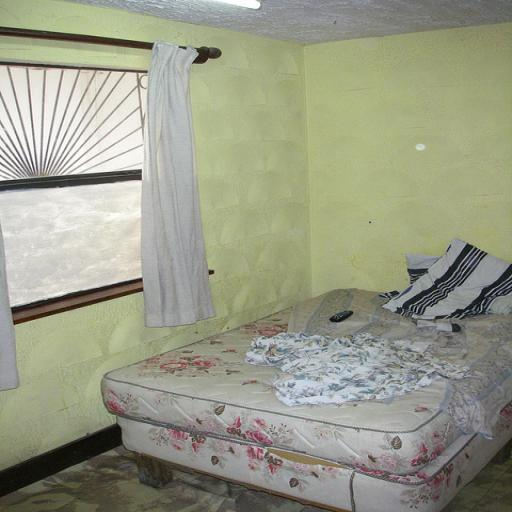bed: (82, 252, 512, 512)
